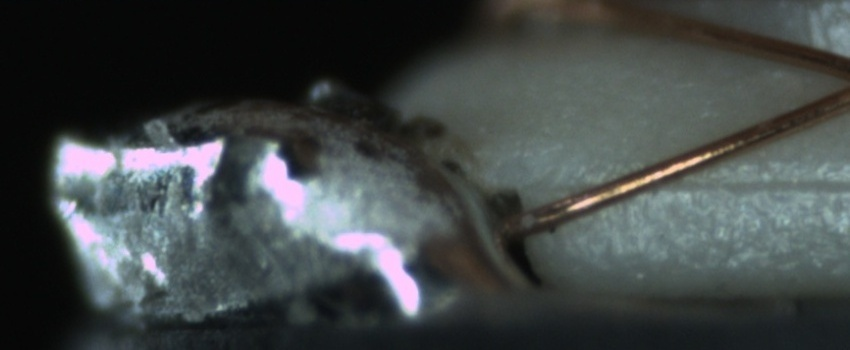DL: (601, 151, 850, 217)
